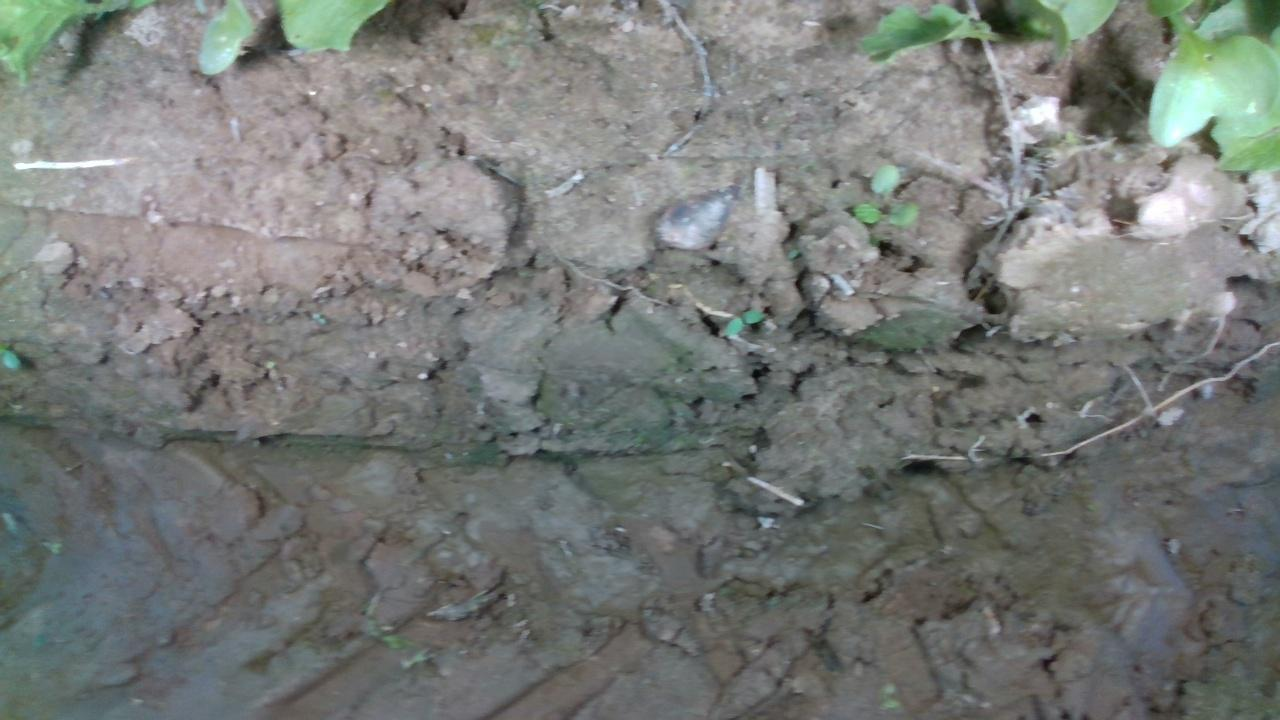weed: (717, 306, 765, 339)
